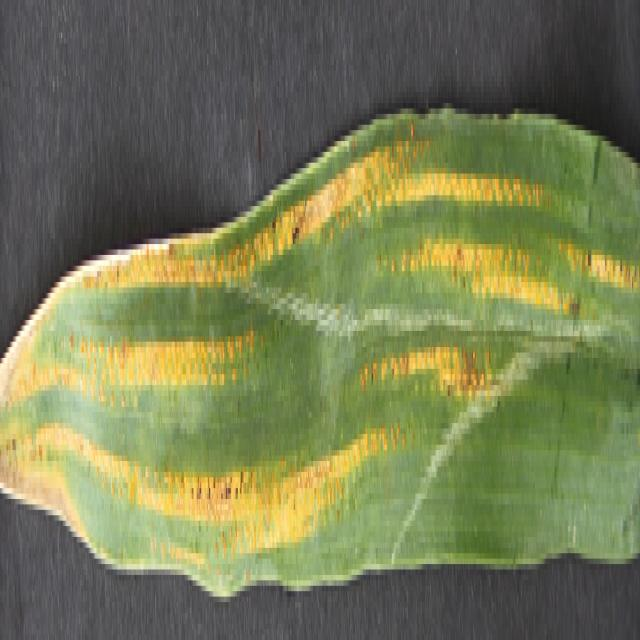leaf rust: (1, 130, 639, 564)
